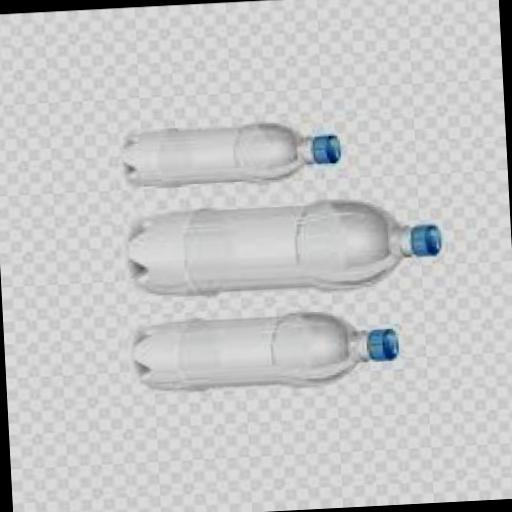plastic: (132, 190, 444, 298), (135, 304, 402, 387), (125, 116, 344, 186), (412, 220, 442, 256), (370, 325, 401, 359), (314, 132, 346, 160)
